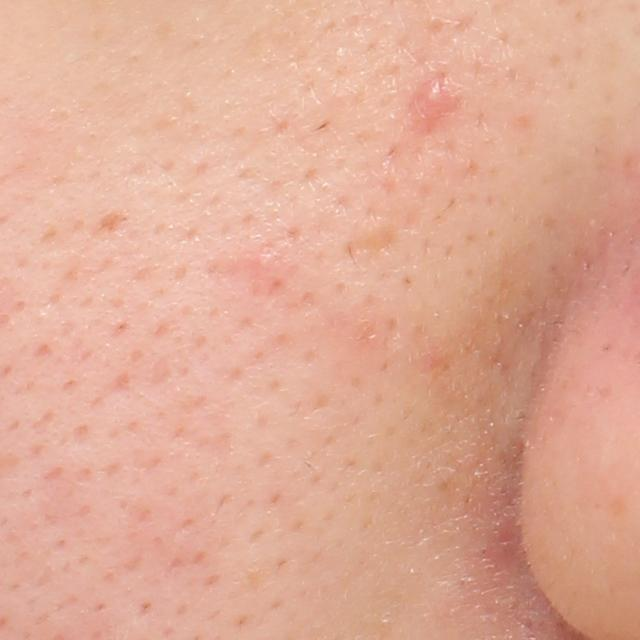atrophic_scar: (325, 220, 406, 269), (87, 204, 138, 239)
pustule: (412, 77, 456, 119)
